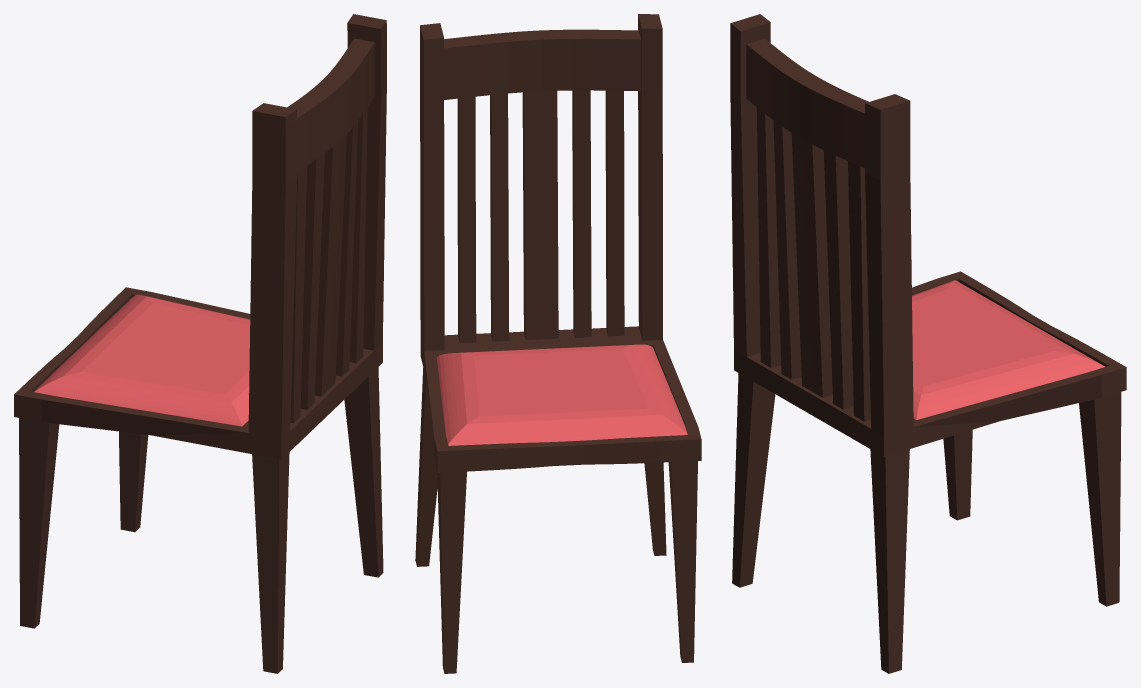
File: chair.glb
The picture shows the model from 3 angles, left to right: view 1: azimuth 30°, elevation 25°; view 2: azimuth 150°, elevation 25°; view 3: azimuth 270°, elevation 25°; orthographic projection. The views are drawn at different scales.
Parts seen in each view (by area): view 1: chair, cushion; view 2: chair, cushion; view 3: chair, cushion.
Part boxes in pixels (x1=…): chair: x1=14, y1=14, x2=386, y2=673; cushion: x1=34, y1=294, x2=250, y2=426; chair: x1=415, y1=14, x2=701, y2=673; cushion: x1=436, y1=344, x2=687, y2=445; chair: x1=730, y1=14, x2=1126, y2=673; cushion: x1=912, y1=280, x2=1105, y2=419.
Bounding box in the file's own units: 0.6383 × 1.01 × 0.6466.
